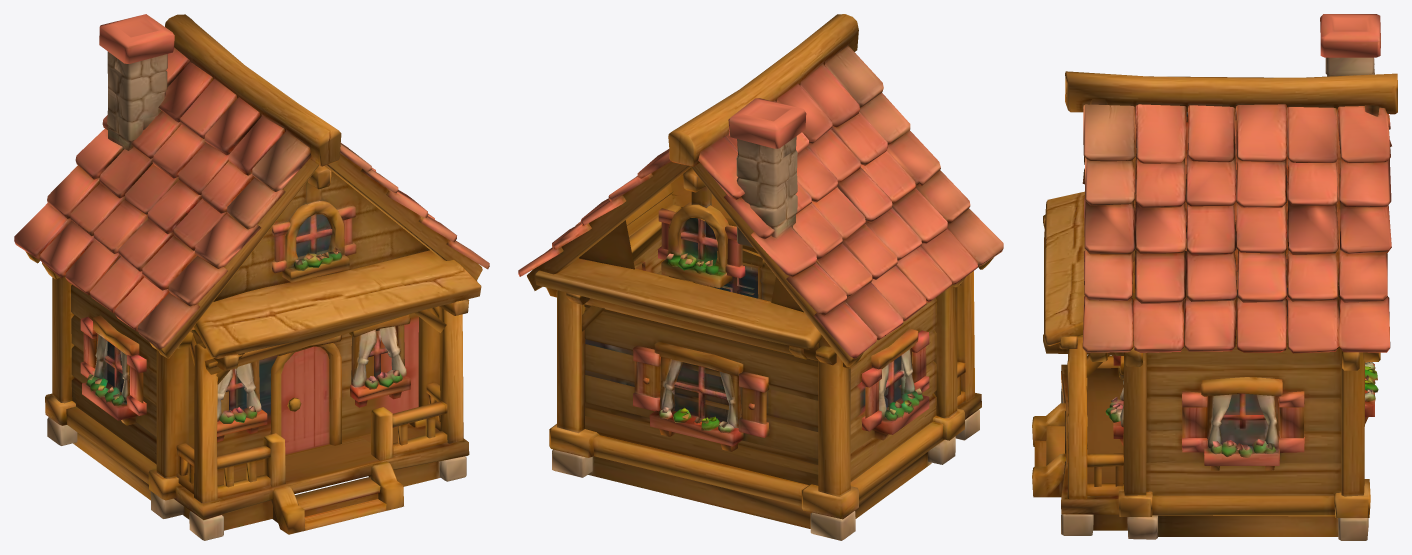
The picture shows the model from 3 angles, left to right: view 1: azimuth 30°, elevation 25°; view 2: azimuth 150°, elevation 25°; view 3: azimuth 270°, elevation 25°; orthographic projection. The views are drawn at different scales.
Parts seen in each view (by area): view 1: house-tier1; view 2: house-tier1; view 3: house-tier1.
Boxes of the visible parts, left/top/right/bottom form: house-tier1: left=14, top=14, right=489, bottom=540; house-tier1: left=518, top=14, right=1003, bottom=540; house-tier1: left=1032, top=14, right=1397, bottom=540.
Bounding box in the file's own units: 4.92 × 5.63 × 4.47.
1 material, 1 textured.
